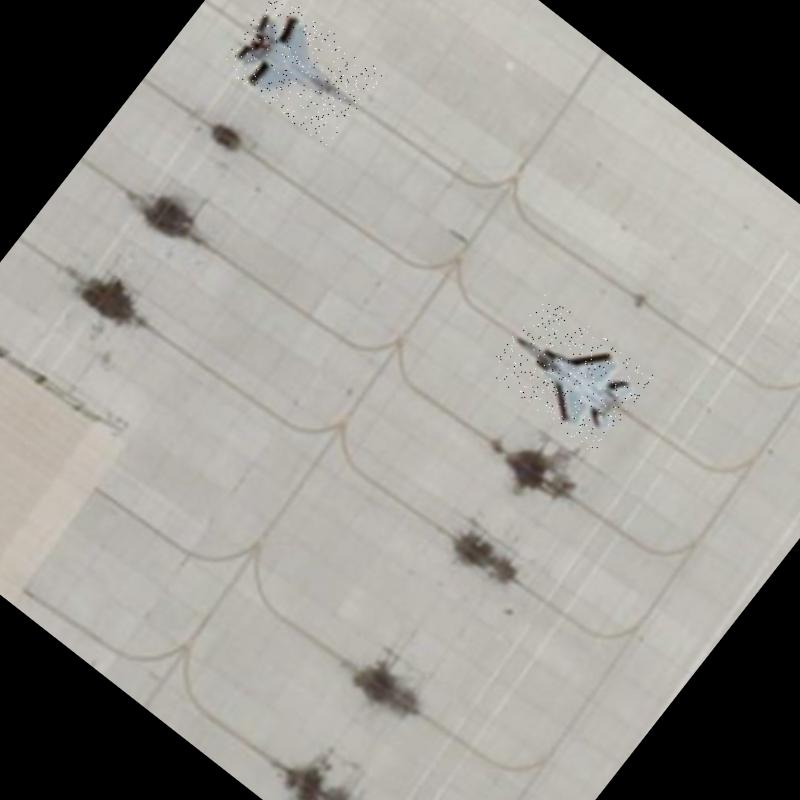A13: (484, 291, 654, 455), (218, 0, 385, 149)
